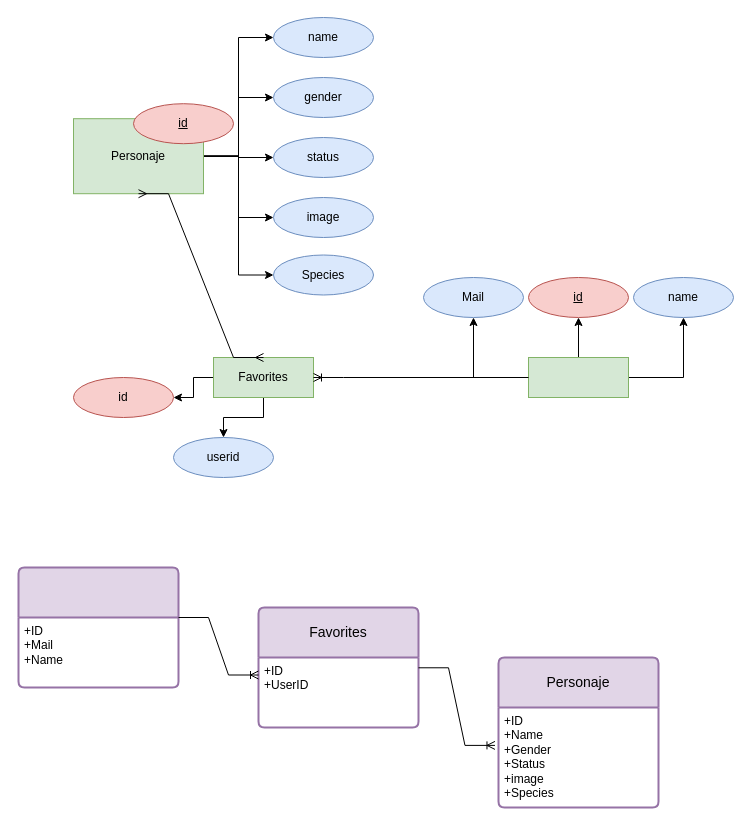
This 751x826 diagram has some shape labels left out. The shapes that lost their labels are listed below. From the top down, each one's box as (x1, y1, x2, y2) in pixels, then its label:
(528, 356, 628, 398): Users
(17, 566, 179, 688): User
